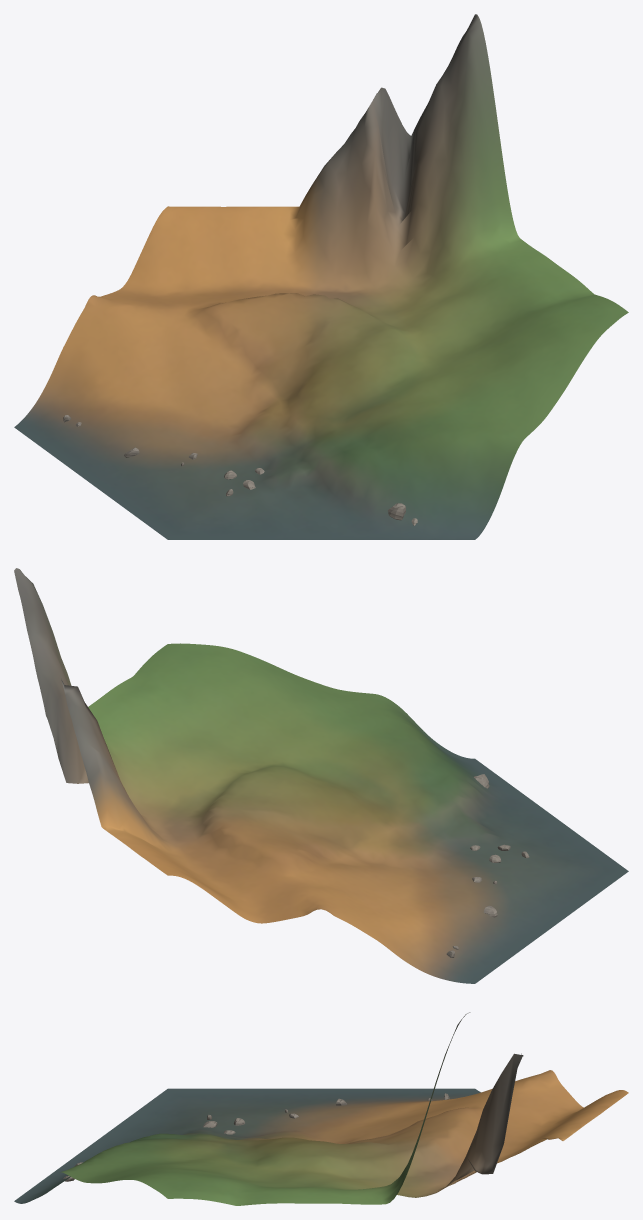
File: costa_-04_+10.glb
3 renders of one model, top to bottom at view 1: azimuth 30°, elevation 25°; view 2: azimuth 150°, elevation 25°; view 3: azimuth 270°, elevation 25°, orthographic.
Visible parts, largest first — view 1: terrain, Formações costeiras; view 2: terrain, Formações costeiras; view 3: terrain, Formações costeiras.
Boxes of the visible parts, x1,y1,x2,y2 form: terrain: (14, 14, 628, 539); Formações costeiras: (63, 415, 417, 525); terrain: (14, 568, 628, 983); Formações costeiras: (446, 774, 529, 957); terrain: (14, 1012, 628, 1205); Formações costeiras: (63, 1093, 449, 1181).
Size of the model in its own units: 4330 by 2707 by 5000.
1 material, 1 textured.
